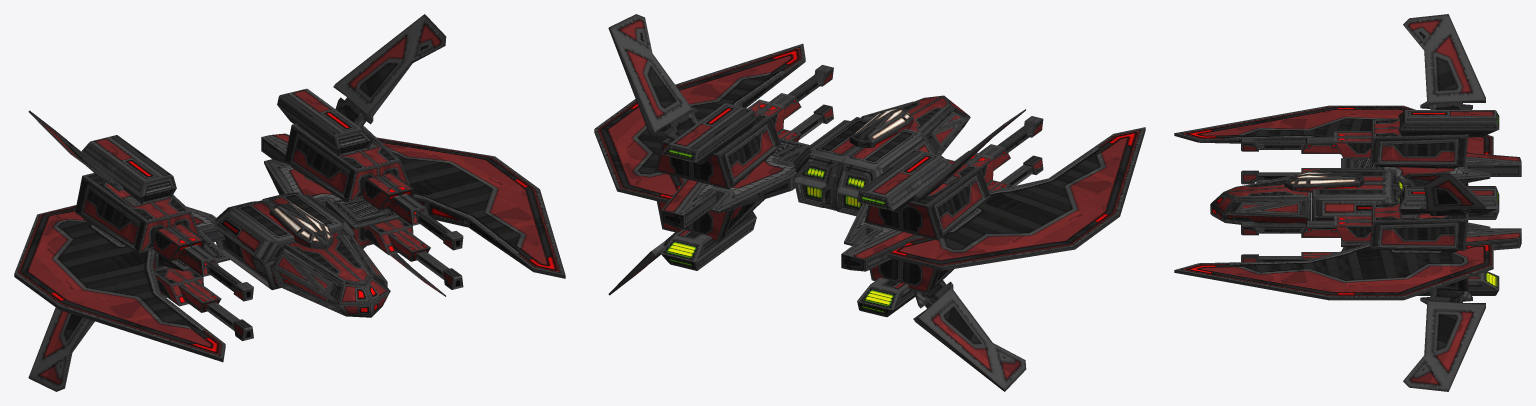
Rendered from BFP_SmallStarship04.FBX.
3 renders of one model, left to right at view 1: azimuth 30°, elevation 25°; view 2: azimuth 150°, elevation 25°; view 3: azimuth 270°, elevation 25°, orthographic. The views are drawn at different scales.
Visible parts, largest first — view 1: MainWing_Right, Cockpit, MainWing_Left, OuterHullSection_Left, OuterHullSection_Right, UpperFin_Left, LowerFin_Right, Cannon_UpperLeft, Cannon_UpperRight, Cannon_LowerRight, Cannon_UpperLeft001, UpperFin_Right; view 2: OuterHullSection_Left, MainWing_Right, OuterHullSection_Right, Cockpit, MainWing_Left, UpperFin_Left, LowerFin_Right, Cannon_UpperLeft, Cannon_UpperRight, UpperFin_Right, Cannon_UpperLeft001, Cannon_LowerRight (+1 smaller); view 3: MainWing_Left, OuterHullSection_Right, Cockpit, OuterHullSection_Left, MainWing_Right, LowerFin_Left, UpperFin_Right, Cannon_UpperRight, Cannon_UpperLeft, UpperFin_Left, Cannon_LowerRight, Cannon_UpperLeft001.
Part boxes in pixels (left/top/right/bottom): MainWing_Right: left=14, top=205, right=225, bottom=362; Cockpit: left=213, top=191, right=390, bottom=317; MainWing_Left: left=376, top=137, right=565, bottom=278; OuterHullSection_Left: left=261, top=88, right=410, bottom=248; OuterHullSection_Right: left=75, top=135, right=230, bottom=297; UpperFin_Left: left=333, top=14, right=446, bottom=127; LowerFin_Right: left=28, top=307, right=94, bottom=391; Cannon_UpperLeft: left=363, top=172, right=463, bottom=250; Cannon_UpperRight: left=153, top=223, right=253, bottom=301; Cannon_LowerRight: left=155, top=268, right=253, bottom=340; Cannon_UpperLeft001: left=364, top=218, right=463, bottom=289; UpperFin_Right: left=28, top=110, right=123, bottom=191; OuterHullSection_Left: left=655, top=103, right=809, bottom=270; MainWing_Right: left=887, top=127, right=1145, bottom=270; OuterHullSection_Right: left=841, top=149, right=990, bottom=317; Cockpit: left=793, top=95, right=970, bottom=215; MainWing_Left: left=594, top=43, right=805, bottom=203; UpperFin_Left: left=608, top=14, right=698, bottom=140; LowerFin_Right: left=913, top=280, right=1026, bottom=391; Cannon_UpperLeft: left=748, top=65, right=833, bottom=133; Cannon_UpperRight: left=955, top=116, right=1043, bottom=184; UpperFin_Right: left=913, top=109, right=1025, bottom=201; Cannon_UpperLeft001: left=777, top=104, right=833, bottom=141; Cannon_LowerRight: left=987, top=155, right=1043, bottom=191; MainWing_Left: left=1174, top=243, right=1493, bottom=300; OuterHullSection_Right: left=1341, top=110, right=1521, bottom=219; Cockpit: left=1210, top=168, right=1408, bottom=224; OuterHullSection_Left: left=1341, top=186, right=1521, bottom=295; MainWing_Right: left=1174, top=105, right=1493, bottom=154; LowerFin_Left: left=1403, top=289, right=1485, bottom=391; UpperFin_Right: left=1403, top=14, right=1485, bottom=109; Cannon_UpperRight: left=1241, top=131, right=1371, bottom=158; Cannon_UpperLeft: left=1241, top=215, right=1371, bottom=241; UpperFin_Left: left=1403, top=172, right=1485, bottom=215; Cannon_LowerRight: left=1241, top=168, right=1340, bottom=184; Cannon_UpperLeft001: left=1241, top=247, right=1349, bottom=262.
Bounding box in the file's own units: 313 × 167 × 239.
2 materials, 2 textured.
